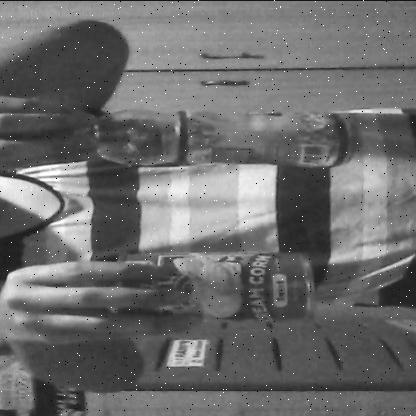Plastic Bottle: (21, 96, 370, 180)
